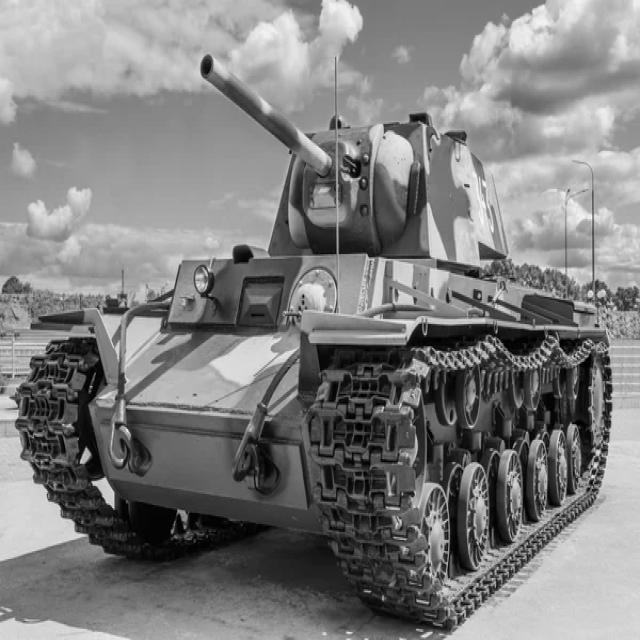Tank: (22, 49, 616, 632)
